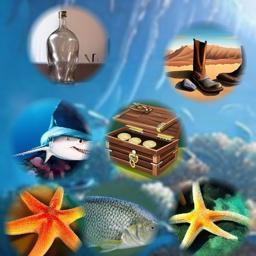not an animal: (179, 34, 249, 94), (41, 9, 86, 85)
treasure: (106, 103, 184, 176)
